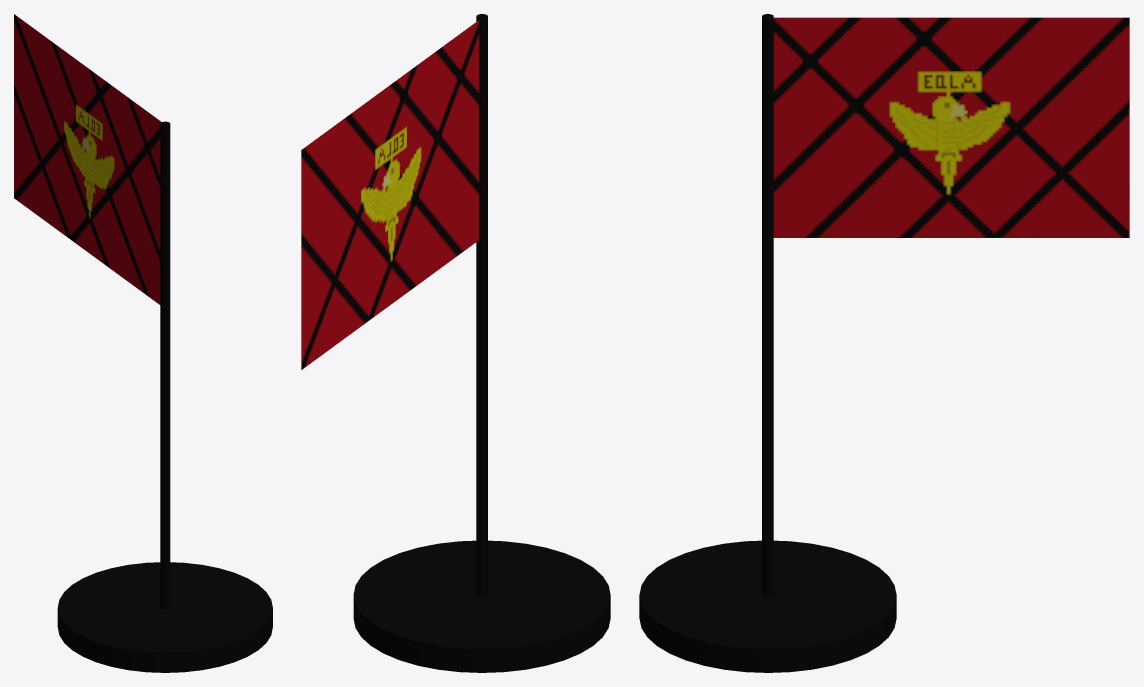
The model's file is eqla_flag.fbx.
The picture shows the model from 3 angles, left to right: view 1: azimuth 30°, elevation 25°; view 2: azimuth 150°, elevation 25°; view 3: azimuth 270°, elevation 25°; orthographic projection. The views are drawn at different scales.
Visible parts, largest first — view 1: Flag, Base, Pole; view 2: Flag, Base, Pole; view 3: Flag, Base, Pole.
Boxes of the visible parts, x1=… form: Flag: x1=14, y1=14, x2=161, y2=304; Base: x1=57, y1=562, x2=272, y2=672; Pole: x1=160, y1=121, x2=170, y2=609; Flag: x1=301, y1=20, x2=479, y2=369; Base: x1=353, y1=540, x2=610, y2=672; Pole: x1=476, y1=14, x2=487, y2=597; Flag: x1=773, y1=17, x2=1129, y2=237; Base: x1=639, y1=540, x2=896, y2=672; Pole: x1=762, y1=14, x2=773, y2=597.
Size of the model in its own units: 10.75 by 27.85 by 20.49.
Materials: 2 (1 with a texture image).
